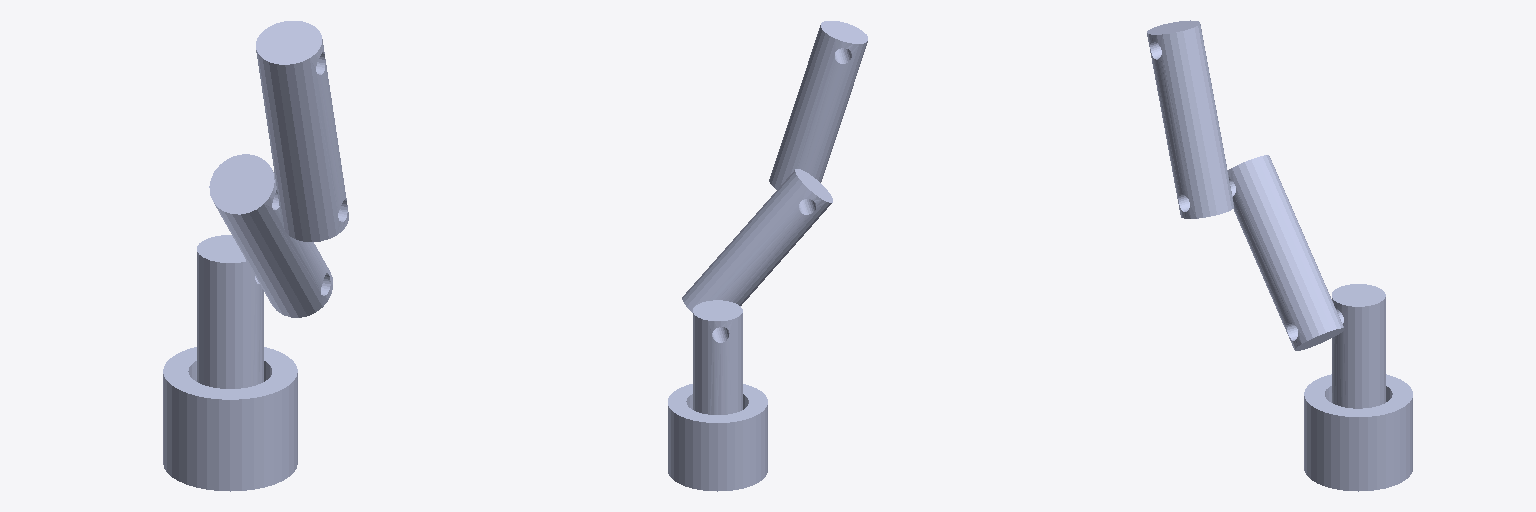
URDF robot description (armd):
<?xml version="1.0" encoding="utf-8"?>
<robot
  name="armd">
  <link
    name="base_link">
    <inertial>
      <origin
        xyz="-0.0185923261856359 0.00139794104580917 0.0616250613776806"
        rpy="0 0 0" />
      <mass
        value="0.0229728962793754" />
      <inertia
        ixx="4.91763560980379E-06"
        ixy="-3.03930819235773E-38"
        ixz="-8.78765497653432E-39"
        iyy="6.38933677770128E-06"
        iyz="6.11173603453858E-38"
        izz="4.91763560980379E-06" />
    </inertial>
    <visual>
      <origin
        xyz="0 0 0"
        rpy="0 0 0" />
      <geometry>
        <mesh
          filename="package://armd/meshes/base_link.STL" />
      </geometry>
      <material
        name="">
        <color
          rgba="0.792156862745098 0.819607843137255 0.933333333333333 1" />
      </material>
    </visual>
    <collision>
      <origin
        xyz="0 0 0"
        rpy="0 0 0" />
      <geometry>
        <mesh
          filename="package://armd/meshes/base_link.STL" />
      </geometry>
    </collision>
  </link>
  <link
    name="a1">
    <inertial>
      <origin
        xyz="1.9754E-09 0.020363 1.3207E-09"
        rpy="0 0 0" />
      <mass
        value="0.021233" />
      <inertia
        ixx="8.8427E-06"
        ixy="-1.0664E-12"
        ixz="-4.0937E-13"
        iyy="1.0728E-06"
        iyz="-1.2933E-12"
        izz="8.8649E-06" />
    </inertial>
    <visual>
      <origin
        xyz="0 0 0"
        rpy="0 0 0" />
      <geometry>
        <mesh
          filename="package://armd/meshes/a1.STL" />
      </geometry>
      <material
        name="">
        <color
          rgba="0.79216 0.81961 0.93333 1" />
      </material>
    </visual>
    <collision>
      <origin
        xyz="0 0 0"
        rpy="0 0 0" />
      <geometry>
        <mesh
          filename="package://armd/meshes/a1.STL" />
      </geometry>
    </collision>
  </link>
  <joint
    name="j1"
    type="continuous">
    <origin
      xyz="-0.018592 -0.061625 0"
      rpy="1.5708 0 0.65288" />
    <parent
      link="base_link" />
    <child
      link="a1" />
    <axis
      xyz="0 1 0" />
  </joint>
  <link
    name="a2">
    <inertial>
      <origin
        xyz="1.2999E-08 -0.029 0.039232"
        rpy="0 0 0" />
      <mass
        value="0.020476" />
      <inertia
        ixx="8.2015E-06"
        ixy="-1.6565E-12"
        ixz="-6.9087E-13"
        iyy="1.046E-06"
        iyz="4.1078E-12"
        izz="8.2459E-06" />
    </inertial>
    <visual>
      <origin
        xyz="0 0 0"
        rpy="0 0 0" />
      <geometry>
        <mesh
          filename="package://armd/meshes/a2.STL" />
      </geometry>
      <material
        name="">
        <color
          rgba="0.79216 0.81961 0.93333 1" />
      </material>
    </visual>
    <collision>
      <origin
        xyz="0 0 0"
        rpy="0 0 0" />
      <geometry>
        <mesh
          filename="package://armd/meshes/a2.STL" />
      </geometry>
    </collision>
  </link>
  <joint
    name="j2"
    type="continuous">
    <origin
      xyz="0 0.050398 -0.018267"
      rpy="0 0 -2.437" />
    <parent
      link="a1" />
    <child
      link="a2" />
    <axis
      xyz="0 0 1" />
  </joint>
  <link
    name="a3">
    <inertial>
      <origin
        xyz="1.2999E-08 0.029 0.029159"
        rpy="0 0 0" />
      <mass
        value="0.020476" />
      <inertia
        ixx="8.2015E-06"
        ixy="-1.6565E-12"
        ixz="-6.9087E-13"
        iyy="1.046E-06"
        iyz="4.1078E-12"
        izz="8.2459E-06" />
    </inertial>
    <visual>
      <origin
        xyz="0 0 0"
        rpy="0 0 0" />
      <geometry>
        <mesh
          filename="package://armd/meshes/a3.STL" />
      </geometry>
      <material
        name="">
        <color
          rgba="0.79216 0.81961 0.93333 1" />
      </material>
    </visual>
    <collision>
      <origin
        xyz="0 0 0"
        rpy="0 0 0" />
      <geometry>
        <mesh
          filename="package://armd/meshes/a3.STL" />
      </geometry>
    </collision>
  </link>
  <joint
    name="j3"
    type="continuous">
    <origin
      xyz="0 -0.058 0.031395"
      rpy="0 0 2.7355" />
    <parent
      link="a2" />
    <child
      link="a3" />
    <axis
      xyz="0 0 1" />
  </joint>
</robot>

--- Render facts (derived) ---
Views: 3 orthographic renders of the robot side by side, from view 1: azimuth 30°, elevation 25°; view 2: azimuth 150°, elevation 25°; view 3: azimuth 270°, elevation 25°.
Model armd with 4 links and 3 joints (3 continuous), rooted at base_link, posed all joints at 0.
Visible links, largest first — view 1: base_link, a3, a2, a1; view 2: base_link, a3, a2, a1; view 3: a3, a2, base_link, a1.
Boxes of the visible links, bbox=[...] form: base_link: bbox=[163, 347, 297, 491]; a3: bbox=[256, 21, 348, 241]; a2: bbox=[209, 154, 332, 317]; a1: bbox=[197, 235, 263, 388]; base_link: bbox=[668, 384, 767, 491]; a3: bbox=[769, 21, 867, 189]; a2: bbox=[682, 169, 832, 312]; a1: bbox=[693, 300, 742, 414]; a3: bbox=[1147, 20, 1233, 218]; a2: bbox=[1228, 155, 1344, 350]; base_link: bbox=[1304, 374, 1412, 491]; a1: bbox=[1332, 284, 1385, 408].
Bounding box of the posed robot: 0.0532 × 0.0976 × 0.1723 m (x, y, z).
4 mesh visuals loaded from 4 distinct referenced files (4 binary STL).